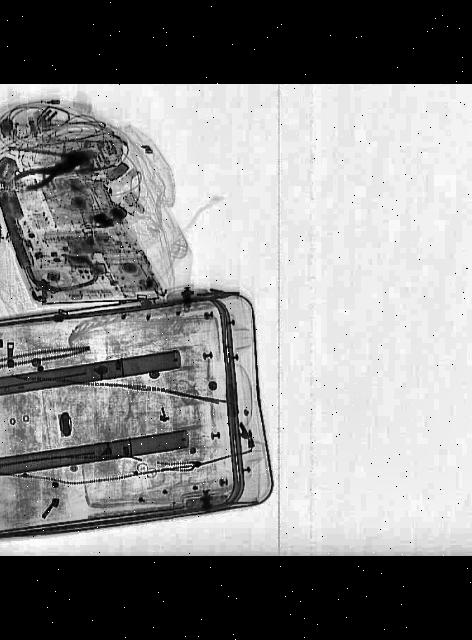Pliers: (11, 146, 95, 197)
